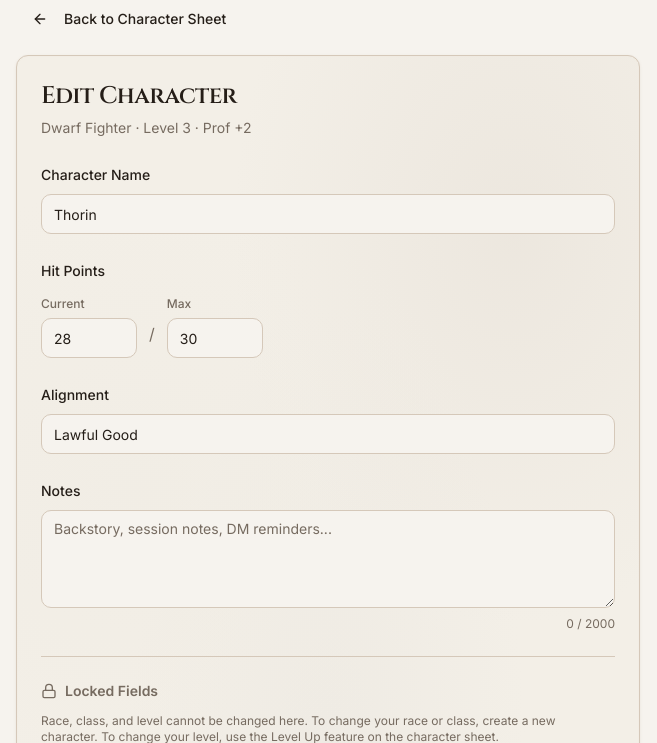
EditCharacter › validates max HP above 999
Replace the text in the number field labelled "Max" with "1000" at (215, 338), box [167,318,263,358]
(page scrolled)
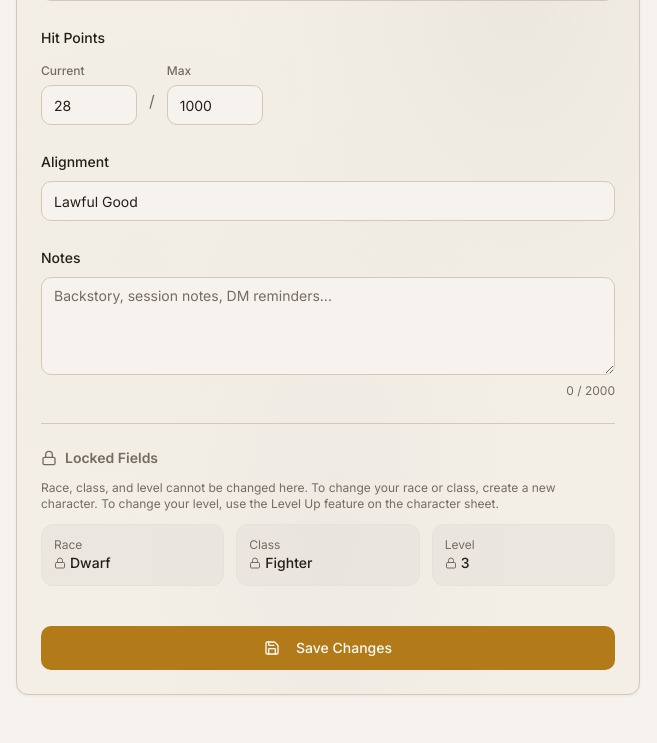
Click the button "Save Changes" at (328, 648), box [41,626,615,670]
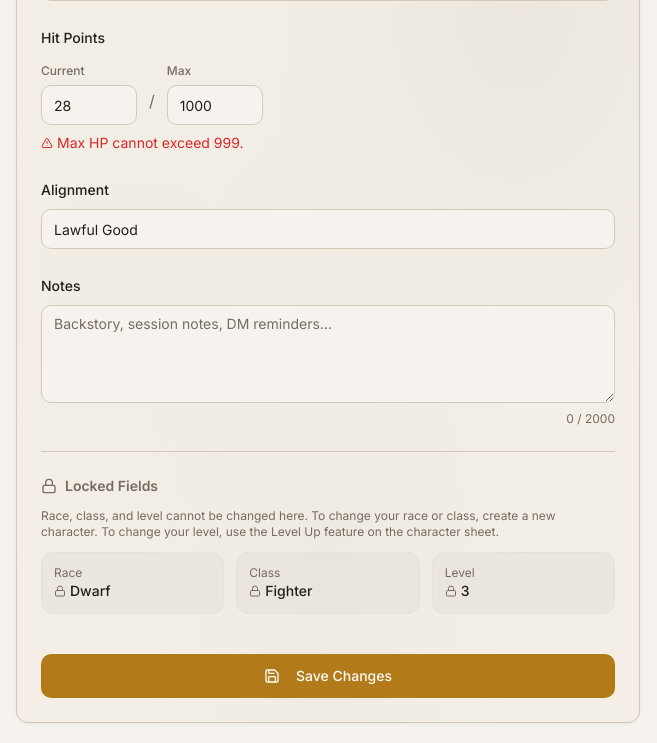
Result: the text "Max HP cannot exceed 999." is shown at [41,134,244,151]
